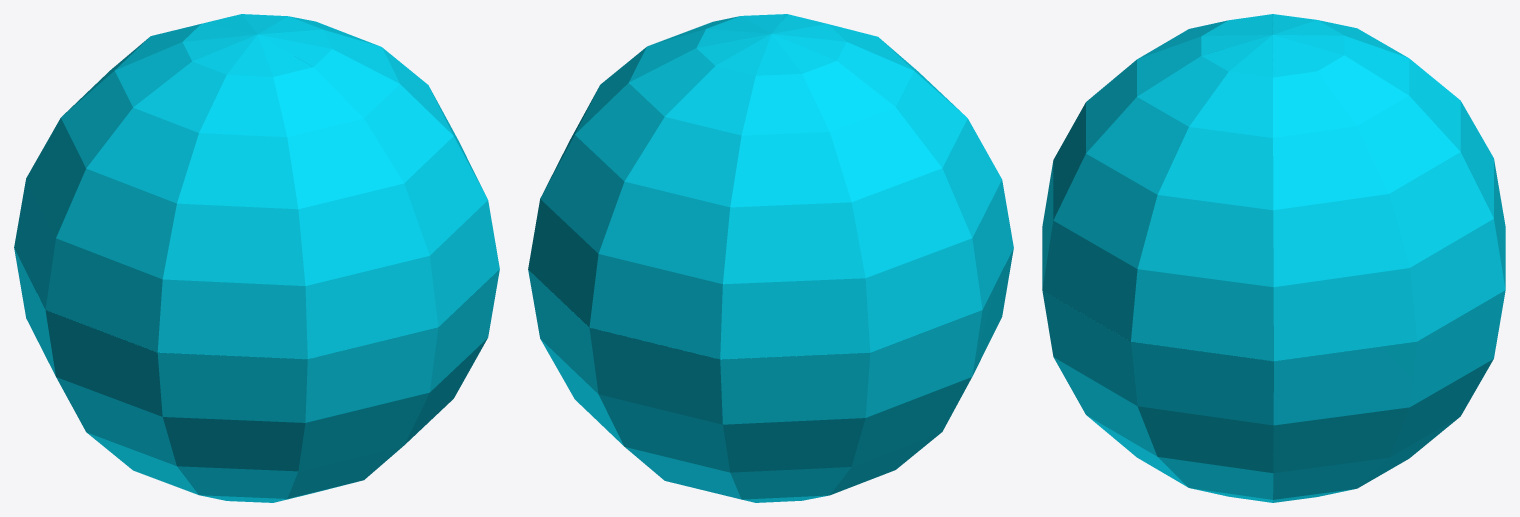
The model's file is boss_barrier.obj.
3 renders of one model, left to right at view 1: azimuth 30°, elevation 25°; view 2: azimuth 150°, elevation 25°; view 3: azimuth 270°, elevation 25°, orthographic.
Parts seen in each view (by area): view 1: pSphere1 group1, group1 pSphere2; view 2: pSphere1 group1, group1 pSphere2; view 3: pSphere1 group1, group1 pSphere2.
Part boxes in pixels (left/top/right/bottom): pSphere1 group1: left=14, top=14, right=499, bottom=359; group1 pSphere2: left=14, top=248, right=499, bottom=502; pSphere1 group1: left=528, top=14, right=1013, bottom=359; group1 pSphere2: left=528, top=248, right=1013, bottom=502; pSphere1 group1: left=1042, top=14, right=1505, bottom=361; group1 pSphere2: left=1042, top=290, right=1505, bottom=502.
Size of the model in its own units: 8 by 8.1 by 7.61.
1 material, 1 textured.
